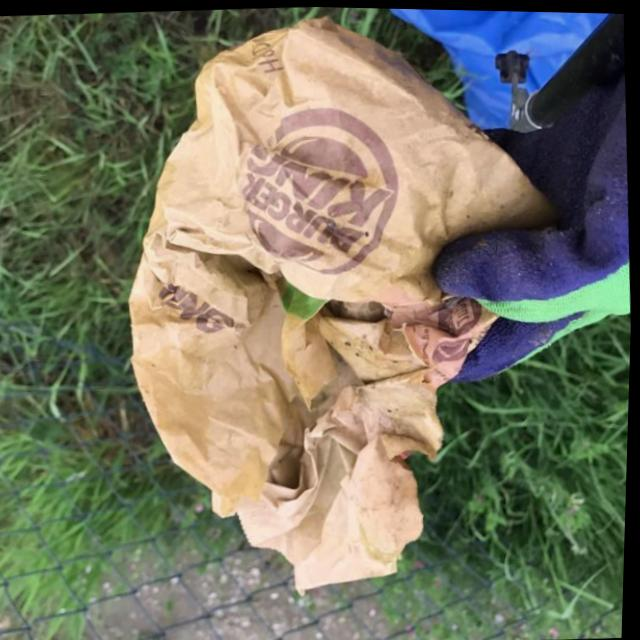Paper: (109, 2, 589, 614)
